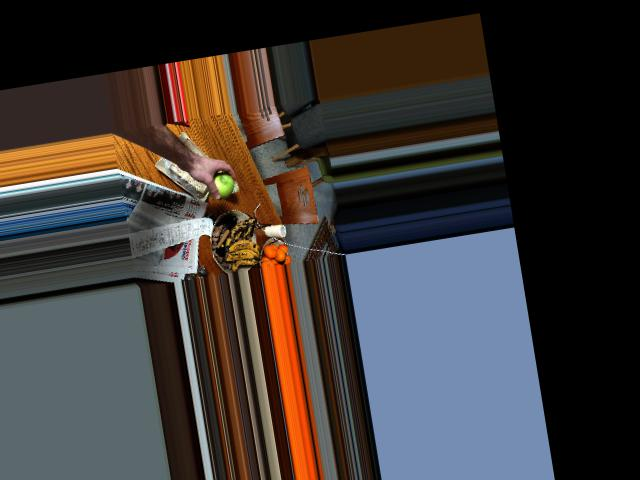apple: (204, 169, 237, 200)
